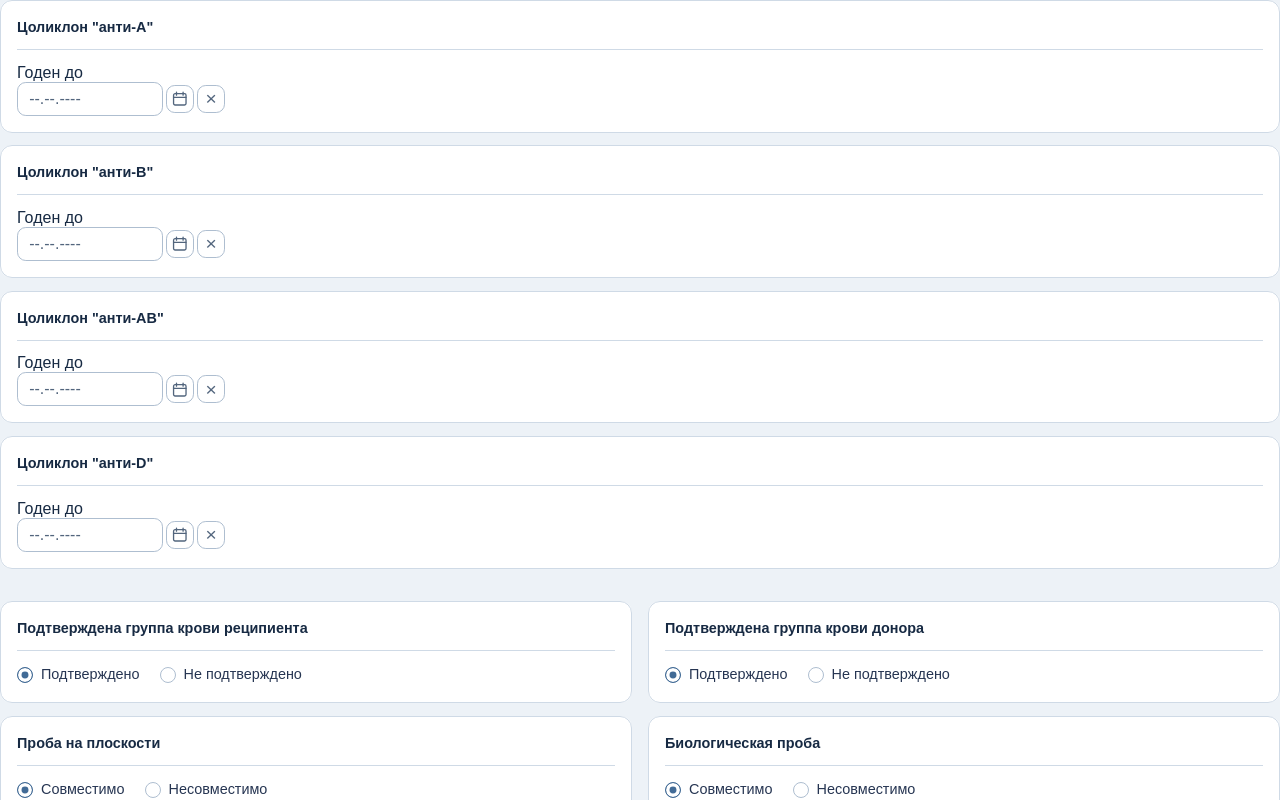
Test: keeps a cancelled compatibility result empty in the editor and in the printed form
The width and height of the screenshot is (1280, 800).
Click the 1st radio button labelled "Подтверждено" at x=25, y=675, box [17,667,33,683]
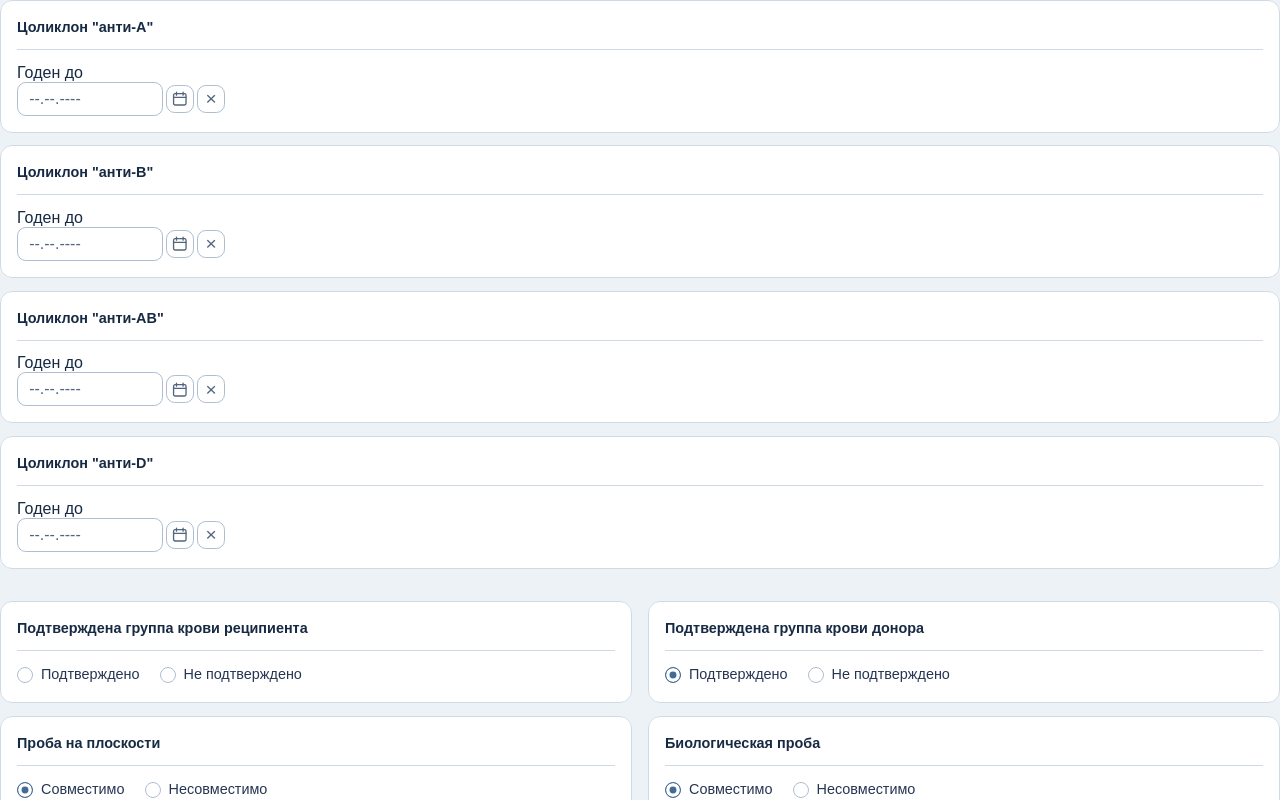
Check: the 1st radio button labelled "Подтверждено" is not checked, box [17,667,33,683]
Click the radio button labelled "Совместимо" below "Проба на плоскости" at x=25, y=790, box [17,782,33,798]
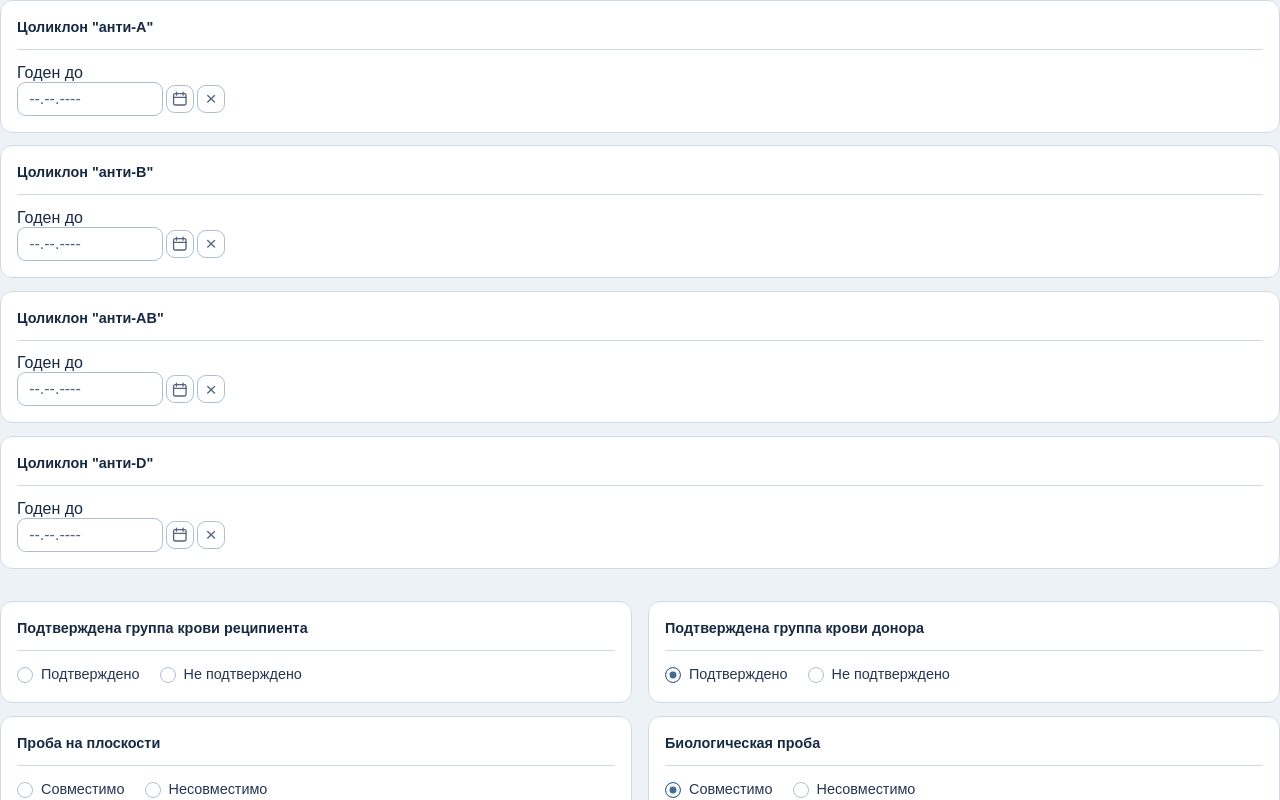
Check: the radio button labelled "Совместимо" below "Проба на плоскости" is not checked, box [17,782,33,798]
Click the 2nd radio button labelled "Совместимо" at x=673, y=790, box [665,782,681,798]
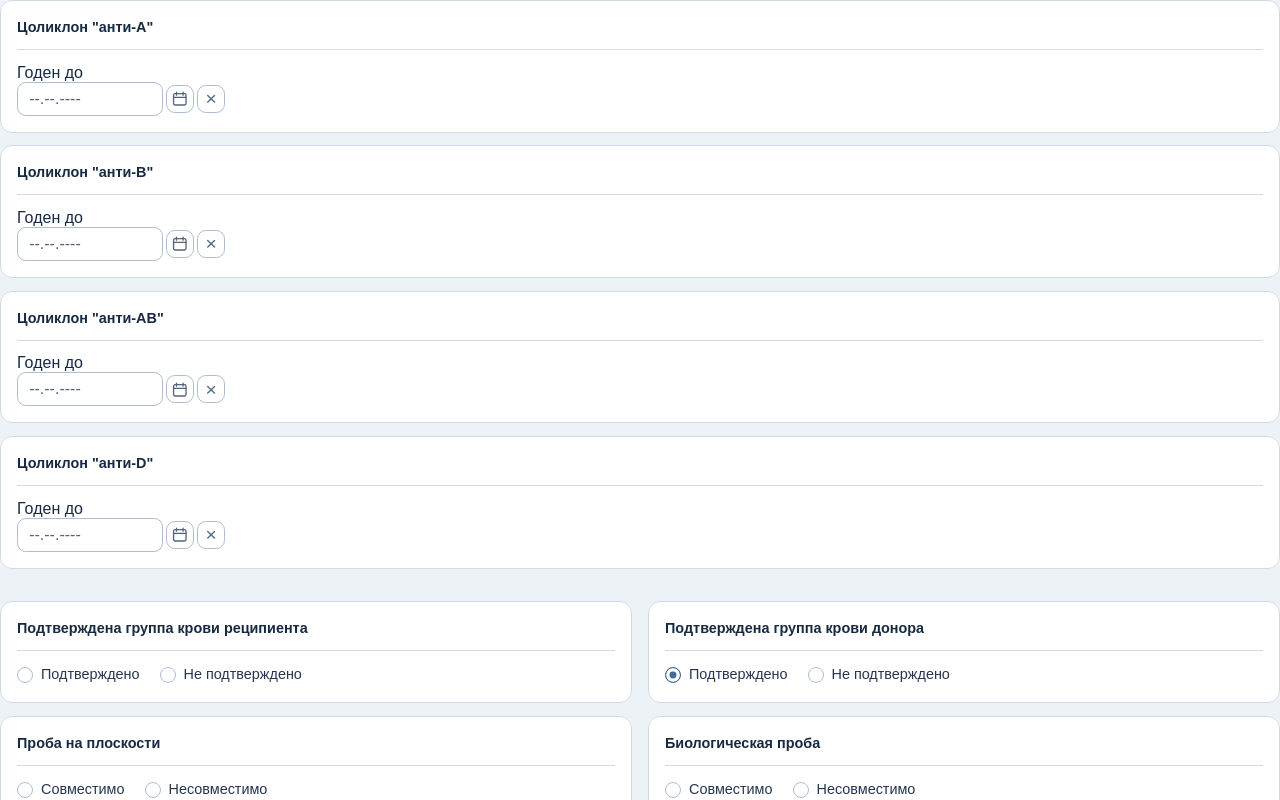
Check: the 2nd radio button labelled "Совместимо" is not checked, box [665,782,681,798]
